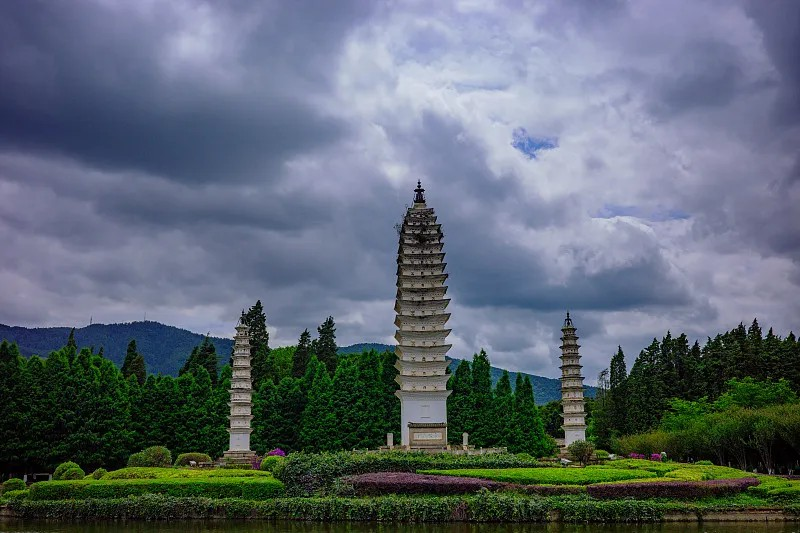ThreePagoda: (394, 178, 453, 445)
